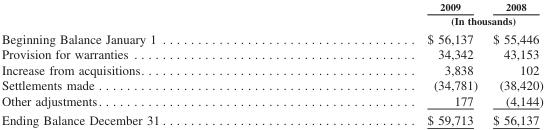table: (0, 0, 542, 126)
table column: (0, 0, 295, 126), (295, 0, 484, 126), (484, 0, 542, 126)
table column header: (0, 0, 542, 28)
table row: (0, 28, 542, 45), (0, 92, 542, 109), (0, 109, 542, 126), (0, 45, 542, 61), (0, 76, 542, 92), (0, 13, 542, 28), (0, 61, 542, 76), (0, 0, 542, 13)
table spanning cell: (295, 13, 542, 28)
